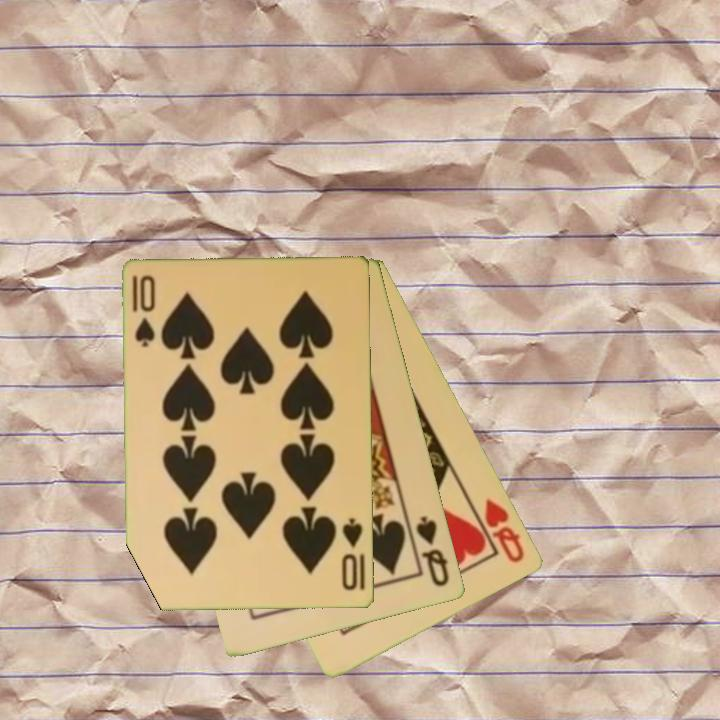10s: (338, 515, 368, 594), (129, 272, 159, 351)
Qh: (481, 495, 528, 566)
Qs: (413, 512, 453, 590)
